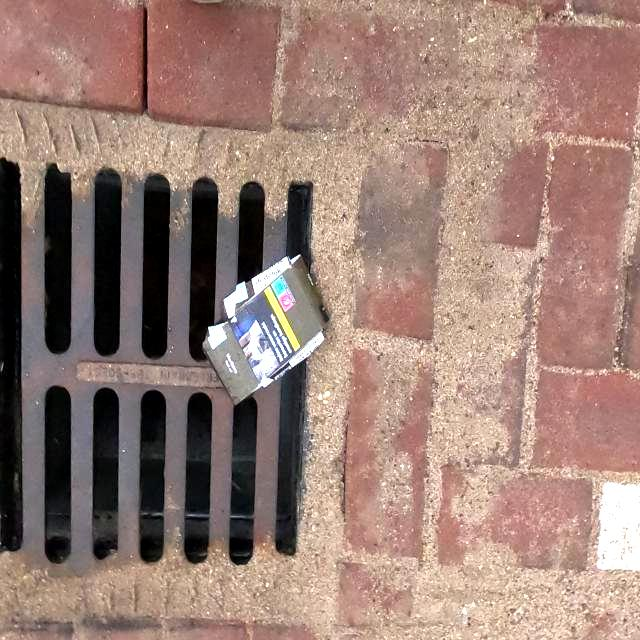Paper: (198, 253, 328, 409)
